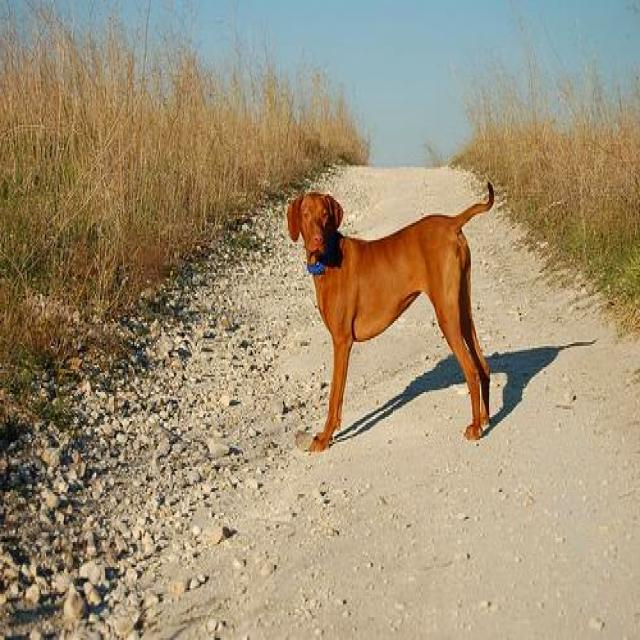vizsla: (286, 178, 496, 454)
